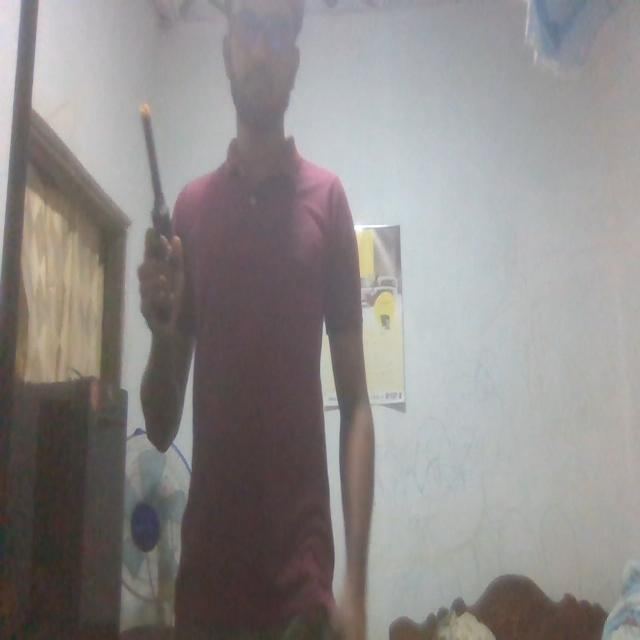Gun_Holder: (126, 93, 186, 279)
Person: (138, 0, 378, 640)
